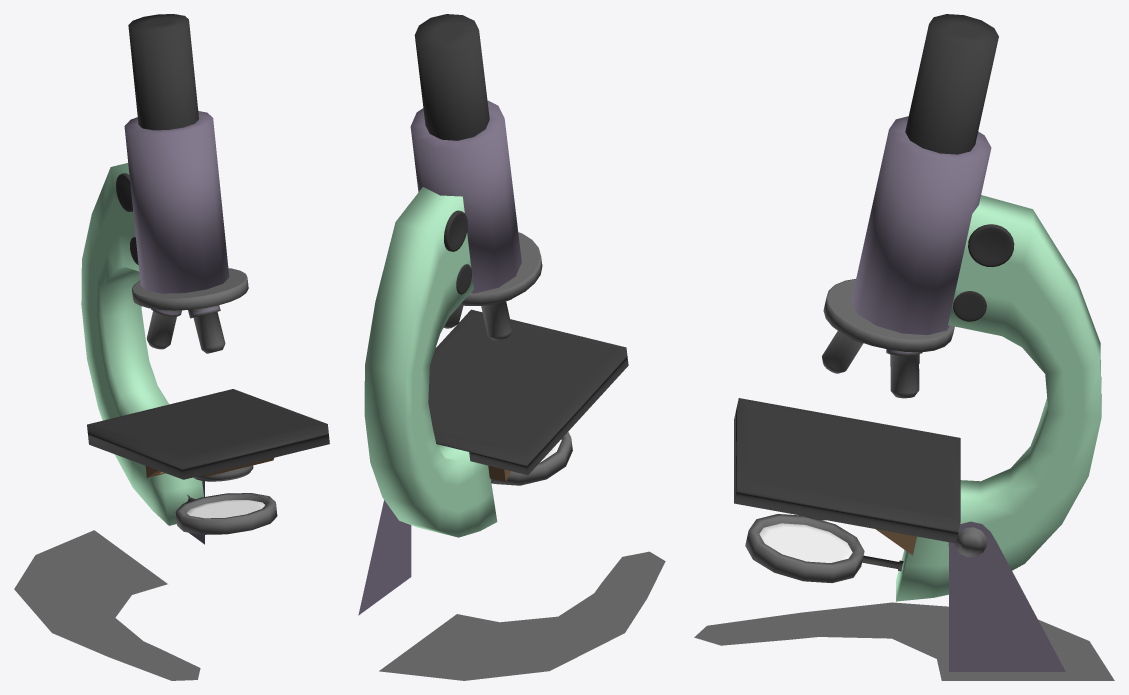
Rendered from microscope.glb.
3 renders of one model, left to right at view 1: azimuth 30°, elevation 25°; view 2: azimuth 150°, elevation 25°; view 3: azimuth 270°, elevation 25°, orthographic. The views are drawn at different scales.
Parts seen in each view (by area): view 1: Plane, Cylinder, platform, Circle, Cylinder.005, Circle.004, Cylinder.001, Cylinder.004, Circle.005, Cylinder.002, Circle.002; view 2: Plane, platform, Circle, Cylinder, Cylinder.005, Circle.001, Cylinder.001, Circle.004, Circle.002, Cylinder.002; view 3: Plane, platform, Cylinder, Circle, Circle.001, Cylinder.005, Circle.004, Cylinder.001, Circle.005, Circle.002, Cylinder.003, Cylinder.004 (+1 smaller).
Part boxes in pixels (x1,y1,x2,y2): Plane: (81,163,203,525); Cylinder: (124,111,229,293); platform: (87,389,329,479); Circle: (14,530,200,680); Cylinder.005: (128,14,198,130); Circle.004: (175,493,277,534); Cylinder.001: (132,268,248,310); Cylinder.004: (188,305,225,353); Circle.005: (187,500,264,518); Cylinder.002: (146,308,181,349); Circle.002: (116,173,138,264); Plane: (364,187,497,537); platform: (428,309,628,475); Circle: (379,551,665,680); Cylinder: (410,100,521,293); Cylinder.005: (414,14,489,140); Circle.001: (358,500,411,615); Cylinder.001: (460,232,542,305); Circle.004: (492,432,572,485); Circle.002: (444,210,471,294); Cylinder.002: (481,301,512,340); Plane: (896,195,1101,601); platform: (734,398,960,543); Cylinder: (851,116,991,334); Circle: (694,602,1114,680); Circle.001: (948,521,1065,671); Cylinder.005: (905,14,998,154); Circle.004: (745,514,864,582); Cylinder.001: (823,279,954,352); Circle.005: (759,523,852,562); Circle.002: (953,224,1014,321); Cylinder.003: (886,349,922,398); Cylinder.004: (822,331,863,373).
Size of the model in its own units: 0.7344 by 1.87 by 1.08.
